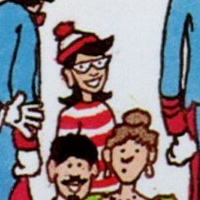wenda: (56, 28, 114, 104)
